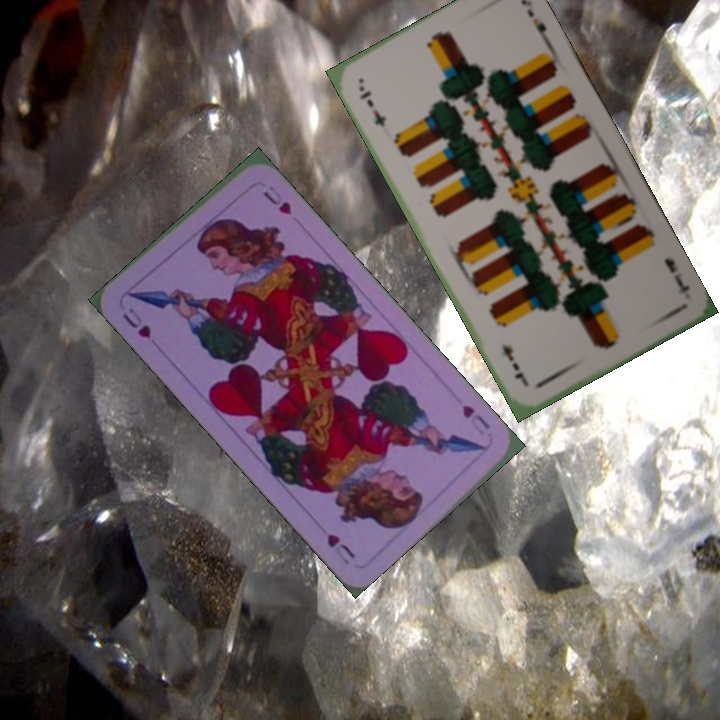E7: (354, 81, 389, 130), (660, 254, 693, 296)
HU: (118, 304, 154, 341), (458, 400, 493, 437)
